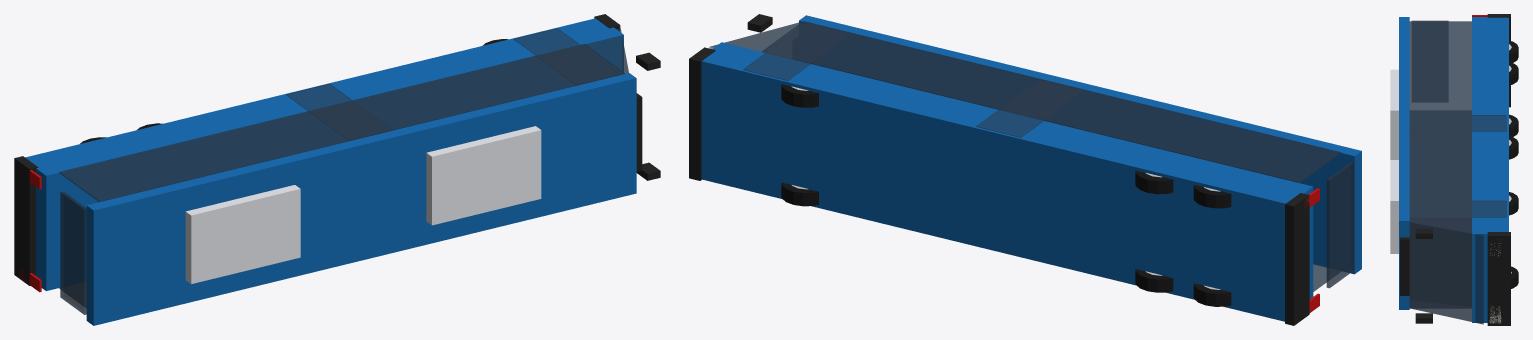
File: Autobus_Interurbano.obj
The picture shows the model from 3 angles, left to right: view 1: azimuth 30°, elevation 25°; view 2: azimuth 150°, elevation 25°; view 3: azimuth 270°, elevation 25°; orthographic projection. The views are drawn at different scales.
Parts seen in each view (by area): view 1: Bus_Roof, Bus_Chassis_Luggage, Panoramic_Windows_Right, HVAC_Front, HVAC_Rear, Windshield_Rear, Passenger_Door_Mid, Passenger_Door_Front, Bumper_Rear, Windshield_Front, Mirrors, Destination_Sign; view 2: Bus_Chassis_Luggage, Bus_Roof, Panoramic_Windows_Right, Windshield_Rear, Bumper_Rear, Passenger_Door_Mid, Passenger_Door_Front, Bumper_Front, Windshield_Front, Wheel_RR2, Wheel_RL1, Wheel_RL2 (+3 smaller); view 3: Panoramic_Windows_Right, Panoramic_Windows_Left, Bus_Chassis_Luggage, Windshield_Front, Windshield_Rear, Bus_Roof, Bumper_Front, Passenger_Door_Front, Passenger_Door_Mid, HVAC_Front, HVAC_Rear, Destination_Sign (+9 smaller).
Boxes of the visible parts, x1,y1,x2,y2 form: Bus_Roof: [86, 73, 636, 325]; Bus_Chassis_Luggage: [25, 18, 623, 290]; Panoramic_Windows_Right: [59, 43, 624, 202]; HVAC_Front: [426, 126, 541, 225]; HVAC_Rear: [185, 185, 300, 284]; Windshield_Rear: [60, 191, 86, 314]; Passenger_Door_Mid: [286, 83, 392, 140]; Passenger_Door_Front: [514, 28, 620, 85]; Bumper_Rear: [14, 156, 38, 285]; Windshield_Front: [582, 28, 628, 73]; Mirrors: [636, 52, 660, 180]; Destination_Sign: [636, 93, 642, 171]; Bus_Chassis_Luggage: [701, 42, 1313, 321]; Bus_Roof: [799, 15, 1361, 274]; Panoramic_Windows_Right: [762, 21, 1341, 183]; Windshield_Rear: [1326, 162, 1354, 288]; Bumper_Rear: [1285, 193, 1309, 325]; Passenger_Door_Mid: [976, 79, 1085, 137]; Passenger_Door_Front: [743, 22, 852, 80]; Bumper_Front: [689, 47, 715, 180]; Windshield_Front: [709, 22, 800, 52]; Wheel_RR2: [1193, 184, 1231, 208]; Wheel_RL1: [1135, 269, 1173, 292]; Wheel_RL2: [1193, 283, 1231, 306]; Panoramic_Windows_Right: [1409, 21, 1471, 219]; Panoramic_Windows_Left: [1410, 111, 1471, 307]; Bus_Chassis_Luggage: [1472, 17, 1508, 322]; Windshield_Front: [1409, 218, 1483, 324]; Windshield_Rear: [1412, 20, 1448, 101]; Bus_Roof: [1399, 17, 1409, 309]; Bumper_Front: [1487, 232, 1510, 325]; Passenger_Door_Front: [1409, 200, 1506, 217]; Passenger_Door_Mid: [1409, 115, 1506, 131]; HVAC_Front: [1390, 160, 1398, 253]; HVAC_Rear: [1390, 69, 1398, 159]; Destination_Sign: [1400, 237, 1409, 295].
Size of the model in its own units: 1350 by 255 by 330.
